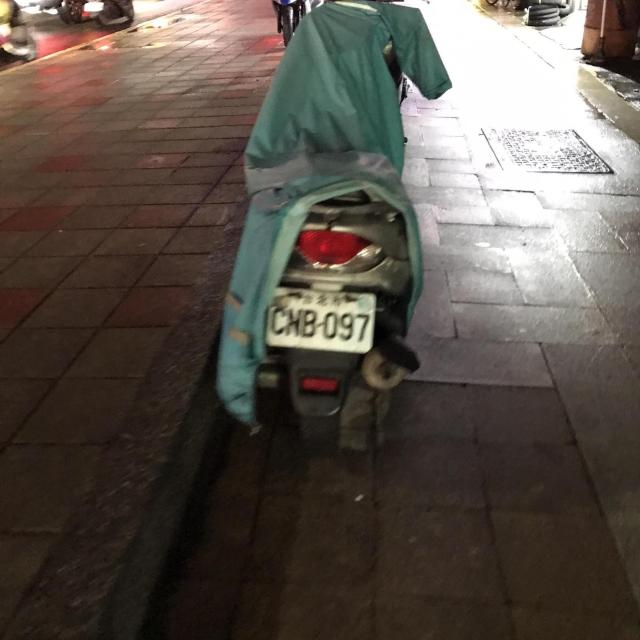W: (256, 275, 382, 363), (79, 0, 108, 15)
